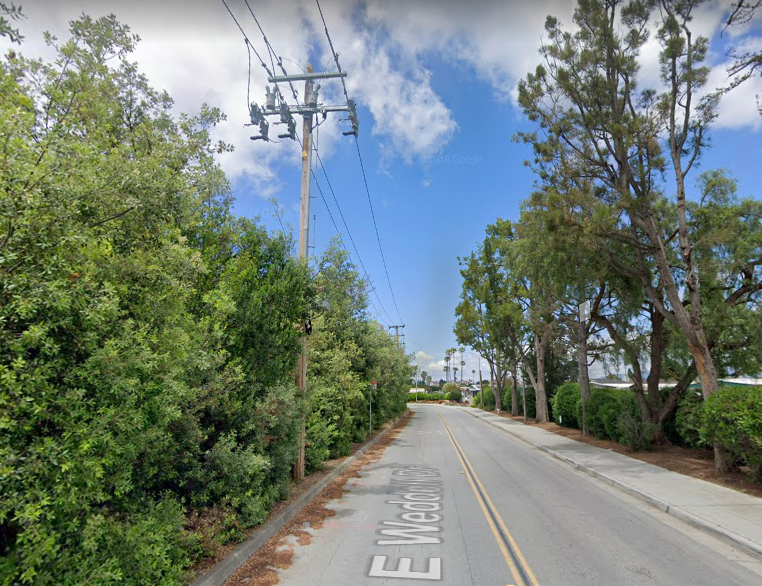utility_pole: (238, 48, 362, 171)
